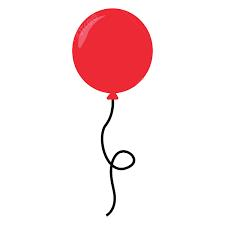red: (71, 8, 152, 102)
